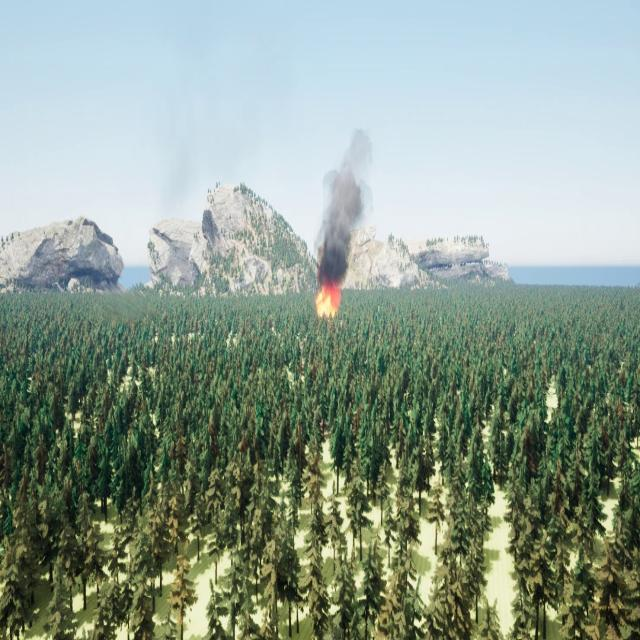fire: (313, 285, 342, 319)
smoke: (316, 127, 372, 281)
